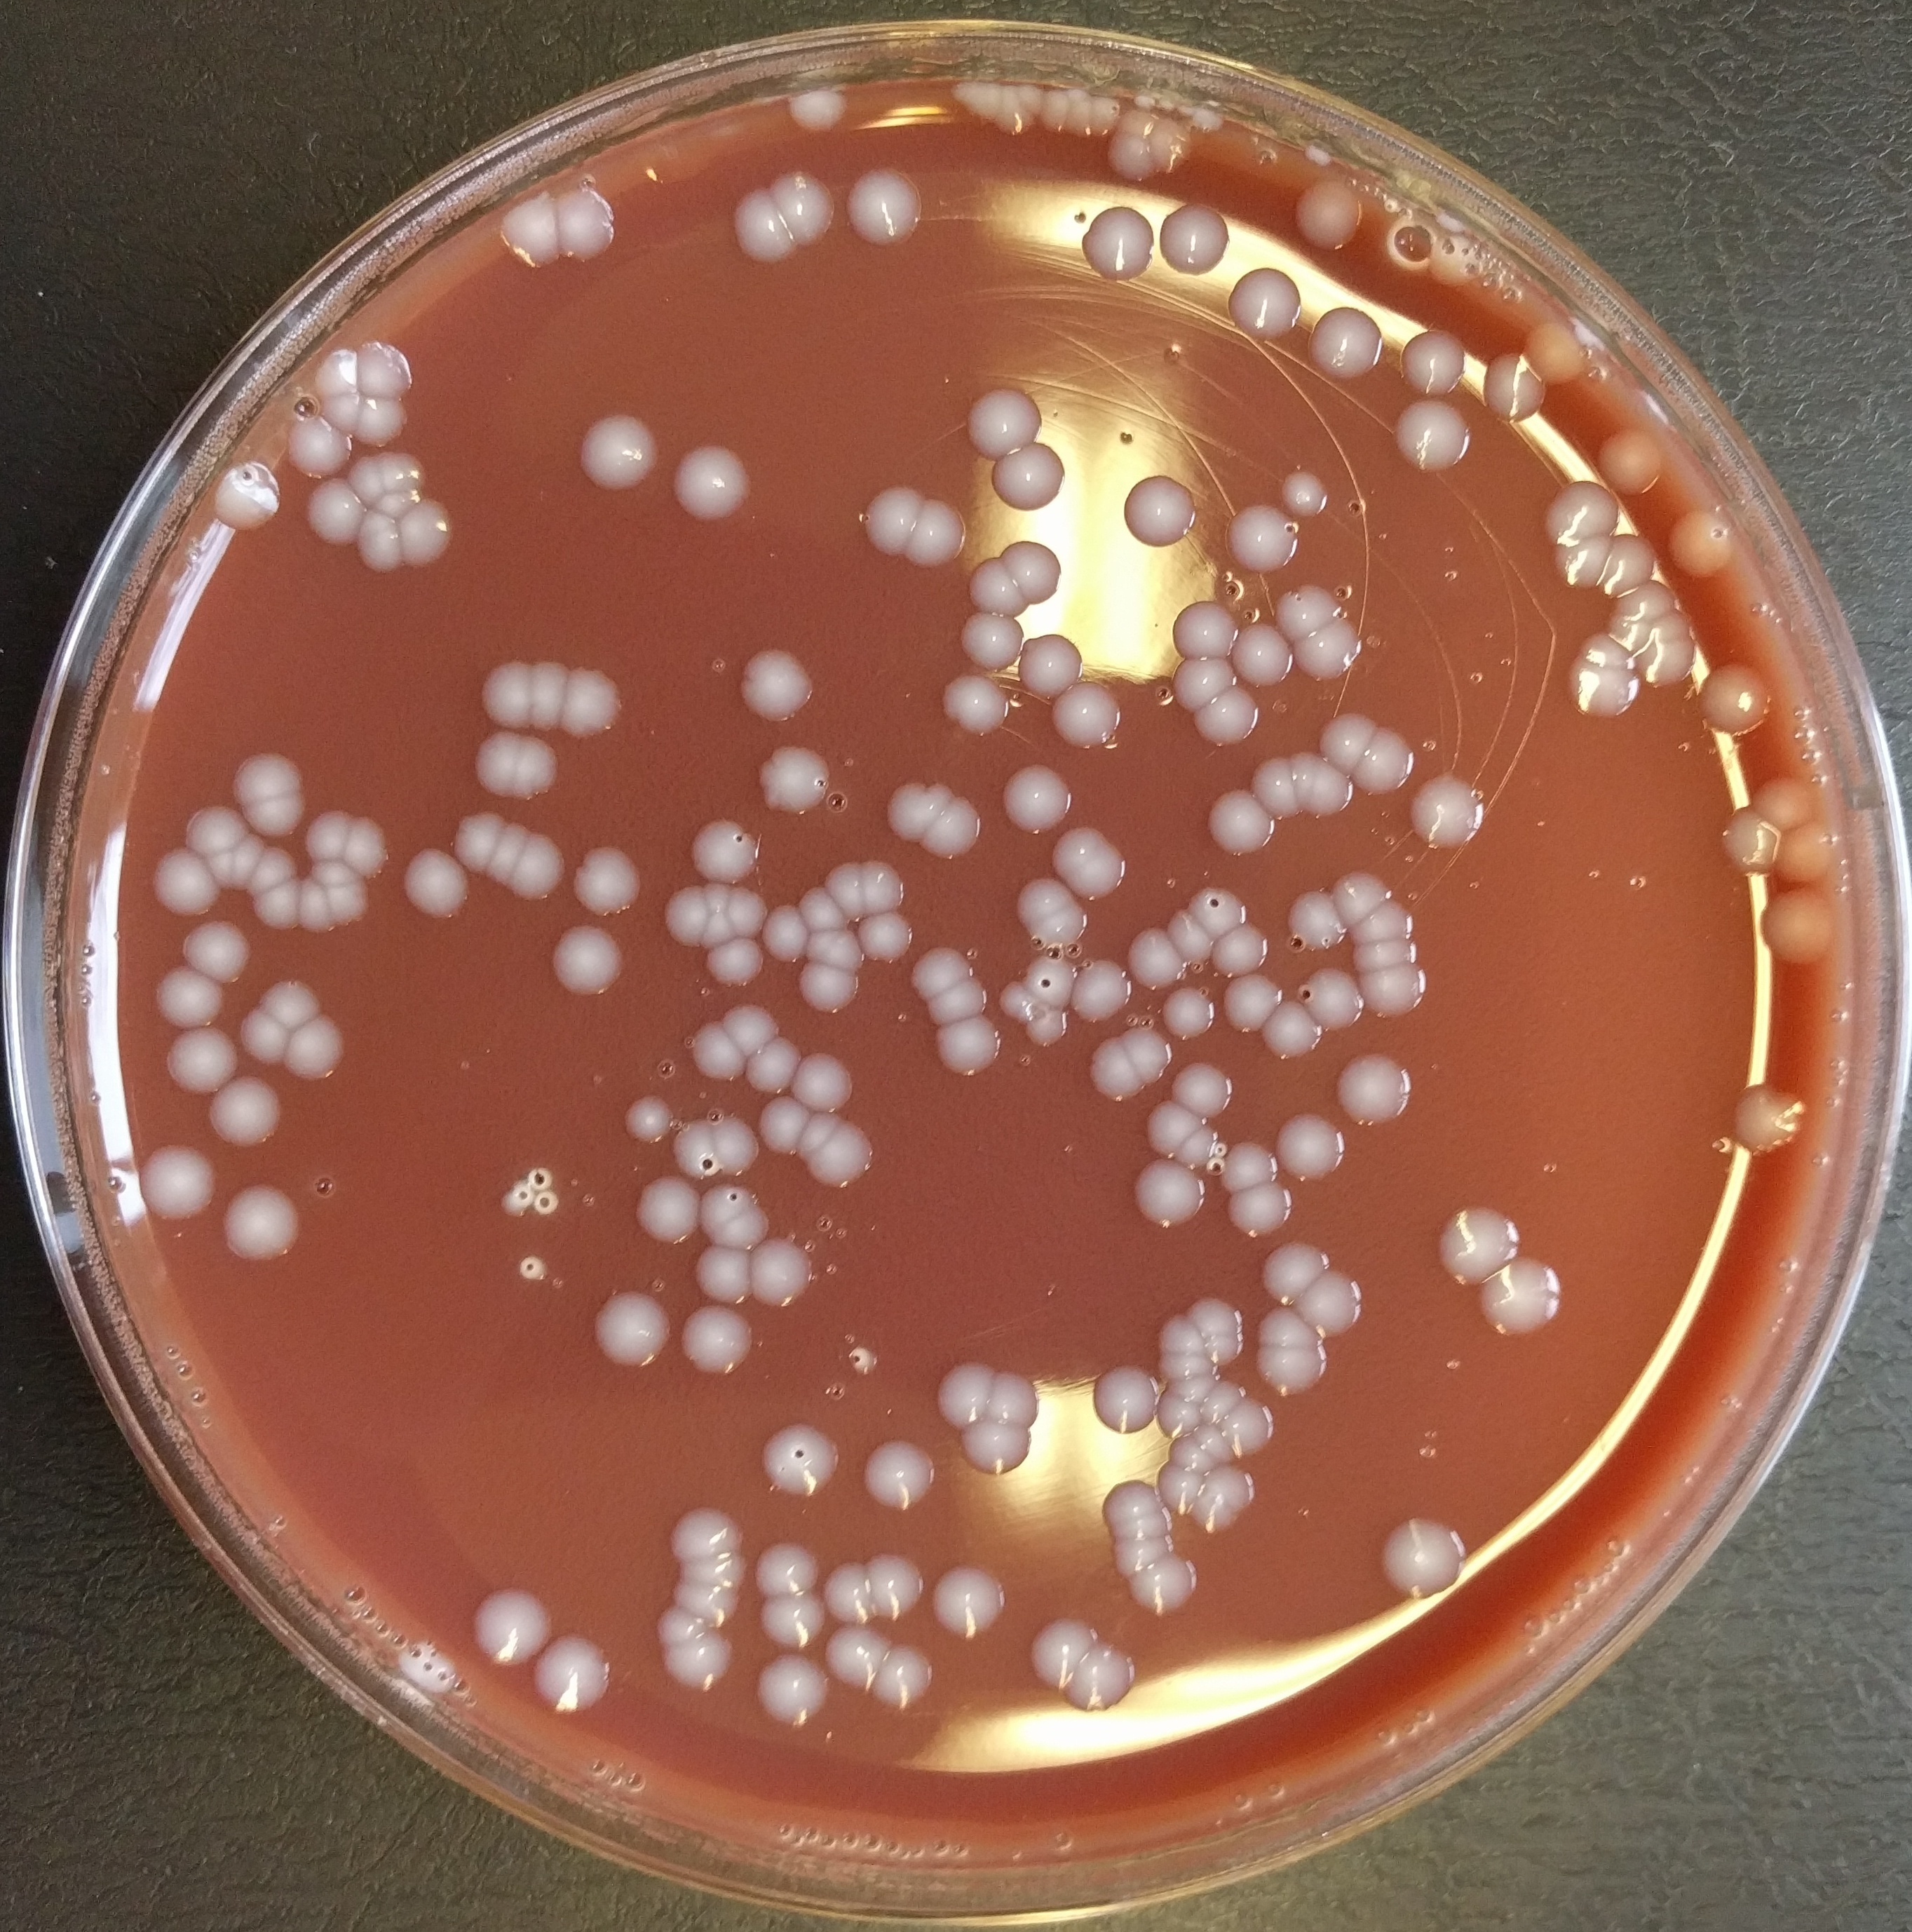sp02: (1374, 1508, 1476, 1606), (466, 1585, 564, 1675), (840, 161, 933, 254), (1070, 194, 1163, 284), (522, 1634, 620, 1718), (128, 1142, 224, 1226), (1114, 468, 1203, 557), (574, 410, 662, 501), (1719, 1072, 1812, 1158), (669, 436, 753, 531), (581, 1284, 676, 1366), (1329, 1051, 1425, 1132), (1215, 496, 1303, 583), (1753, 881, 1840, 969), (924, 1559, 1012, 1646), (1392, 394, 1476, 485), (748, 736, 842, 816), (749, 1419, 844, 1499), (1476, 1249, 1565, 1333), (545, 914, 634, 998), (221, 1181, 310, 1263), (1306, 300, 1387, 389), (728, 645, 821, 722), (1051, 820, 1133, 906), (961, 378, 1045, 461), (1434, 1202, 1520, 1282), (1226, 257, 1304, 345), (1690, 653, 1768, 741), (860, 1435, 942, 1517), (676, 1298, 758, 1380), (744, 1233, 826, 1315), (1290, 168, 1366, 257), (1406, 771, 1488, 851), (683, 814, 763, 897), (1595, 413, 1669, 503), (749, 1646, 828, 1729), (728, 187, 800, 277), (1395, 321, 1473, 403), (1131, 1154, 1210, 1233), (567, 839, 646, 918), (988, 438, 1070, 513), (765, 165, 839, 249), (205, 457, 289, 531), (954, 1407, 1040, 1478), (159, 1023, 245, 1095), (1059, 1643, 1149, 1711), (396, 846, 474, 923), (1268, 1111, 1348, 1186), (1157, 194, 1231, 277), (996, 762, 1079, 836), (201, 1077, 287, 1147), (1087, 1361, 1164, 1438), (847, 478, 923, 557), (1474, 347, 1551, 422), (1047, 678, 1126, 751), (296, 475, 369, 554), (224, 746, 313, 811), (1348, 730, 1429, 802), (931, 671, 1014, 741), (872, 774, 954, 844), (137, 850, 219, 920), (280, 406, 355, 482), (1662, 503, 1735, 580), (1290, 958, 1367, 1032), (807, 1119, 884, 1193), (179, 916, 257, 988), (905, 494, 975, 575), (1289, 741, 1359, 821), (821, 1618, 891, 1699), (552, 186, 620, 268), (1026, 1610, 1094, 1692), (1564, 657, 1648, 723), (394, 494, 460, 578), (1544, 475, 1616, 552), (993, 534, 1070, 606), (1203, 783, 1271, 864), (1121, 1548, 1203, 1615), (1355, 960, 1441, 1023), (630, 1175, 704, 1249), (282, 1018, 355, 1091), (1168, 597, 1247, 666), (1254, 1238, 1336, 1303), (1012, 627, 1087, 697), (930, 1357, 1000, 1431), (865, 1646, 935, 1720), (145, 967, 229, 1028), (931, 1016, 1009, 1082), (1266, 578, 1345, 643), (1220, 1175, 1299, 1240), (560, 664, 625, 743), (1250, 1342, 1341, 1398), (466, 725, 529, 806), (1297, 1265, 1367, 1336), (1164, 648, 1238, 716), (923, 786, 989, 862), (658, 1505, 748, 1561), (496, 194, 560, 271), (658, 1631, 735, 1696), (954, 603, 1024, 673), (963, 557, 1037, 624), (1065, 956, 1135, 1025), (860, 1550, 928, 1620), (1215, 970, 1290, 1033), (1313, 713, 1381, 781), (1296, 613, 1362, 683), (1229, 622, 1299, 688), (1282, 886, 1352, 953), (1257, 988, 1324, 1058), (1121, 925, 1191, 991), (784, 1047, 856, 1112), (1621, 634, 1695, 697), (693, 1242, 760, 1310), (1327, 864, 1392, 934), (448, 806, 511, 878), (1187, 685, 1261, 746), (1024, 899, 1098, 960), (1599, 524, 1656, 601), (474, 820, 541, 886), (1210, 918, 1275, 986), (683, 1019, 748, 1088), (718, 997, 783, 1065), (510, 825, 566, 904), (749, 1536, 823, 1596), (1103, 1526, 1184, 1580), (478, 652, 532, 732), (1523, 317, 1588, 384), (1170, 1054, 1236, 1119), (751, 900, 819, 963), (760, 1587, 828, 1650), (615, 1082, 678, 1151), (1546, 525, 1607, 596), (853, 907, 923, 969), (341, 809, 396, 886), (1082, 1042, 1152, 1102), (256, 976, 326, 1035), (1117, 1019, 1173, 1093), (1348, 895, 1423, 949), (903, 946, 979, 1000), (1254, 1301, 1329, 1356), (658, 878, 713, 953), (1721, 806, 1784, 871), (1159, 976, 1220, 1042), (1220, 1393, 1280, 1461), (1774, 816, 1831, 886), (791, 955, 861, 1012), (821, 1559, 879, 1629), (706, 1112, 763, 1182), (510, 732, 564, 806), (704, 932, 767, 995), (524, 653, 571, 737), (746, 1033, 807, 1098), (247, 869, 306, 935), (235, 790, 310, 843), (319, 871, 376, 939), (1170, 902, 1226, 972), (982, 1364, 1042, 1429), (1014, 953, 1080, 1011), (355, 335, 413, 401), (667, 1575, 742, 1625), (802, 925, 872, 979), (1348, 934, 1425, 983), (1758, 774, 1821, 834), (1142, 1098, 1201, 1161), (930, 969, 993, 1028), (783, 86, 853, 138), (1247, 755, 1299, 825), (669, 1112, 721, 1182), (233, 1014, 292, 1075), (856, 855, 912, 920), (299, 802, 354, 869), (671, 1548, 756, 1590), (790, 883, 858, 935), (173, 799, 242, 851), (354, 506, 404, 576), (1187, 1475, 1247, 1534), (1189, 883, 1250, 941), (1152, 1384, 1213, 1442), (695, 1179, 758, 1235), (1140, 112, 1194, 177), (1007, 876, 1073, 928), (1180, 1289, 1247, 1342), (1607, 573, 1676, 624), (352, 391, 411, 448), (1149, 1310, 1219, 1359), (818, 857, 867, 925), (704, 1207, 777, 1252), (242, 839, 299, 897), (753, 1098, 809, 1158), (1219, 1137, 1276, 1193), (1276, 464, 1331, 524), (1576, 627, 1641, 676), (1096, 1473, 1163, 1520), (945, 74, 1000, 131), (1105, 128, 1163, 182), (1156, 1342, 1229, 1384), (1152, 1457, 1208, 1512), (376, 447, 432, 501), (791, 1103, 842, 1163), (364, 482, 432, 525), (312, 342, 364, 398), (1161, 1429, 1220, 1478), (725, 879, 769, 946), (292, 869, 334, 935), (226, 825, 263, 900), (1021, 997, 1073, 1049), (1187, 1412, 1241, 1463), (1597, 606, 1655, 653), (1189, 1378, 1250, 1422), (650, 1597, 713, 1639), (1210, 1461, 1261, 1512), (1173, 1118, 1220, 1172), (993, 75, 1031, 142), (341, 450, 387, 506), (1159, 1368, 1220, 1408), (993, 977, 1040, 1028), (1108, 1506, 1175, 1541), (320, 384, 366, 431), (1087, 89, 1124, 145), (1198, 1329, 1248, 1370), (1648, 608, 1693, 652), (1035, 77, 1066, 140), (1177, 95, 1226, 135), (306, 855, 362, 890), (198, 839, 229, 895), (699, 907, 741, 949), (697, 876, 735, 921), (1292, 140, 1338, 177), (1115, 102, 1156, 142), (1068, 91, 1096, 147), (1017, 79, 1049, 123), (1157, 88, 1184, 117), (1059, 81, 1087, 103), (1135, 89, 1156, 116)
